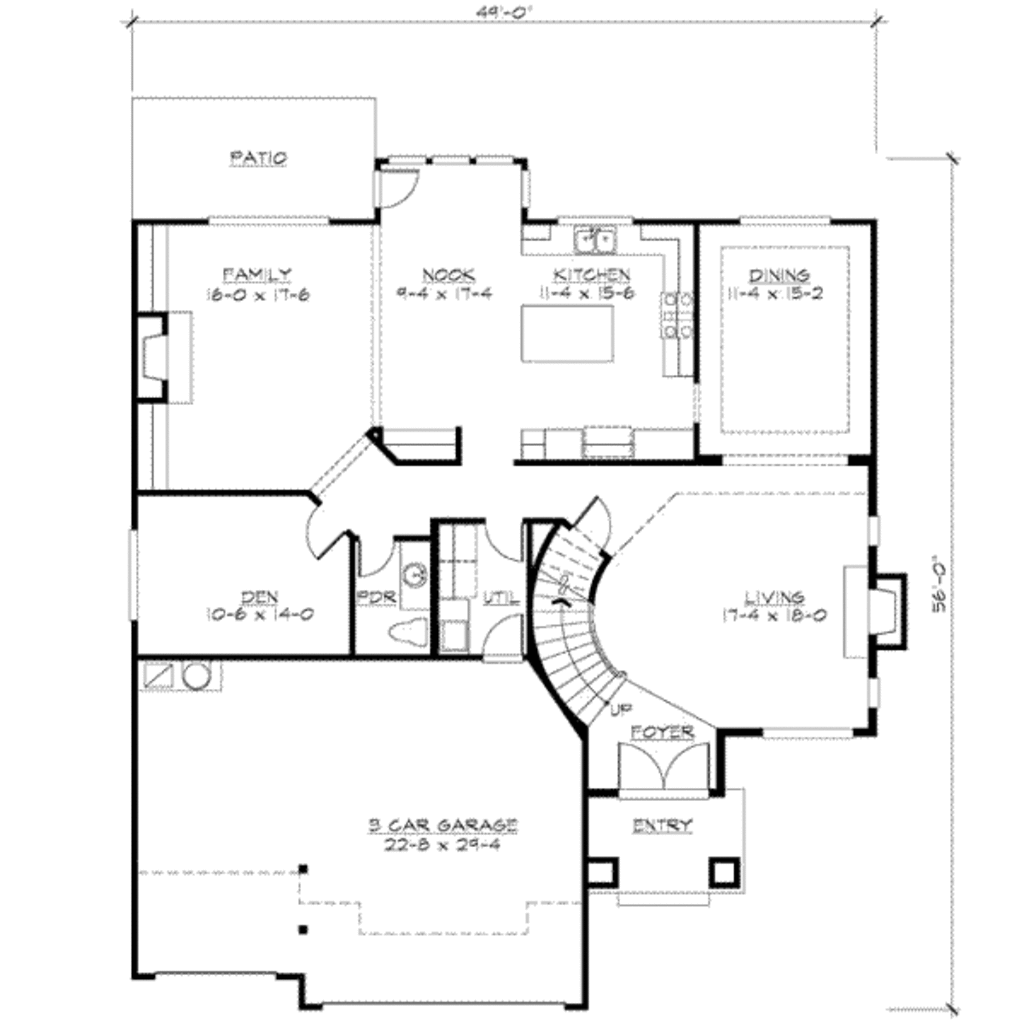door: (611, 738, 713, 807), (472, 608, 527, 669), (370, 166, 431, 216), (300, 496, 345, 563), (483, 516, 531, 571), (358, 533, 403, 589)
large_sink: (381, 616, 444, 655)
small_sink: (402, 532, 434, 608)
stairs: (535, 525, 648, 739)
twin_sink: (563, 219, 622, 258)
